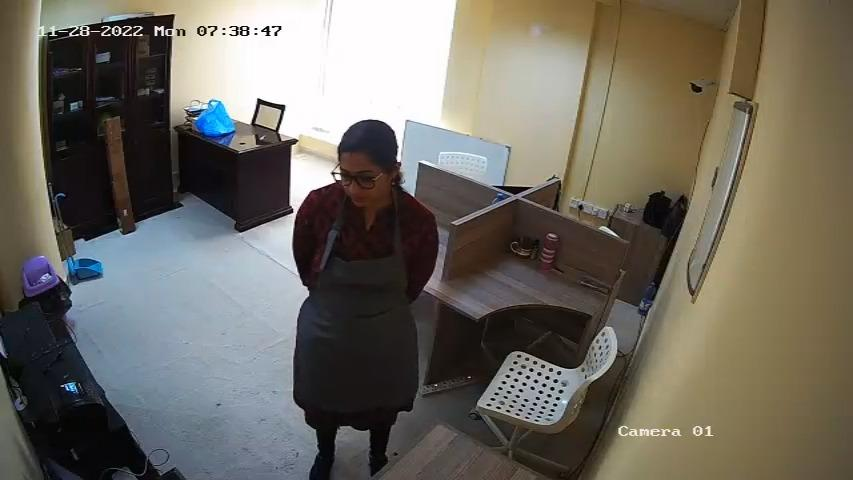apron: (299, 207, 419, 405)
